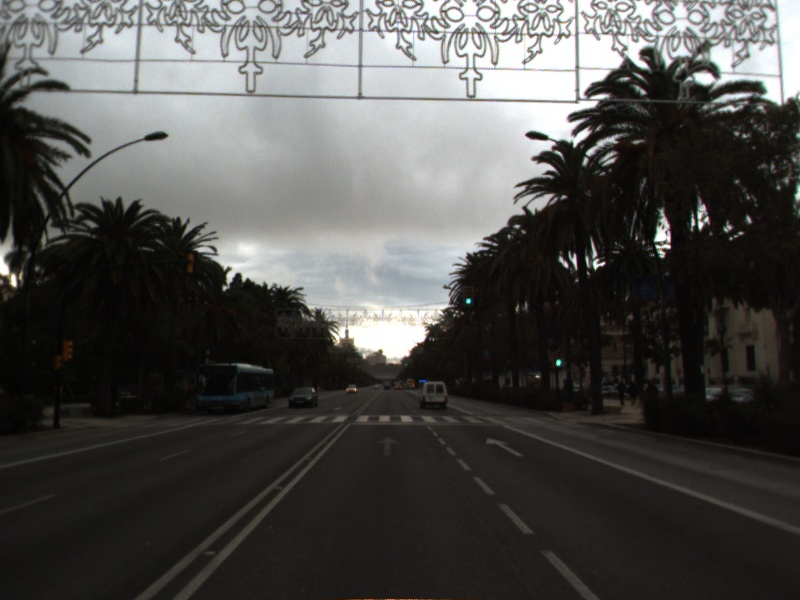STRAIGHT: (483, 435, 526, 458), (374, 434, 402, 458)
